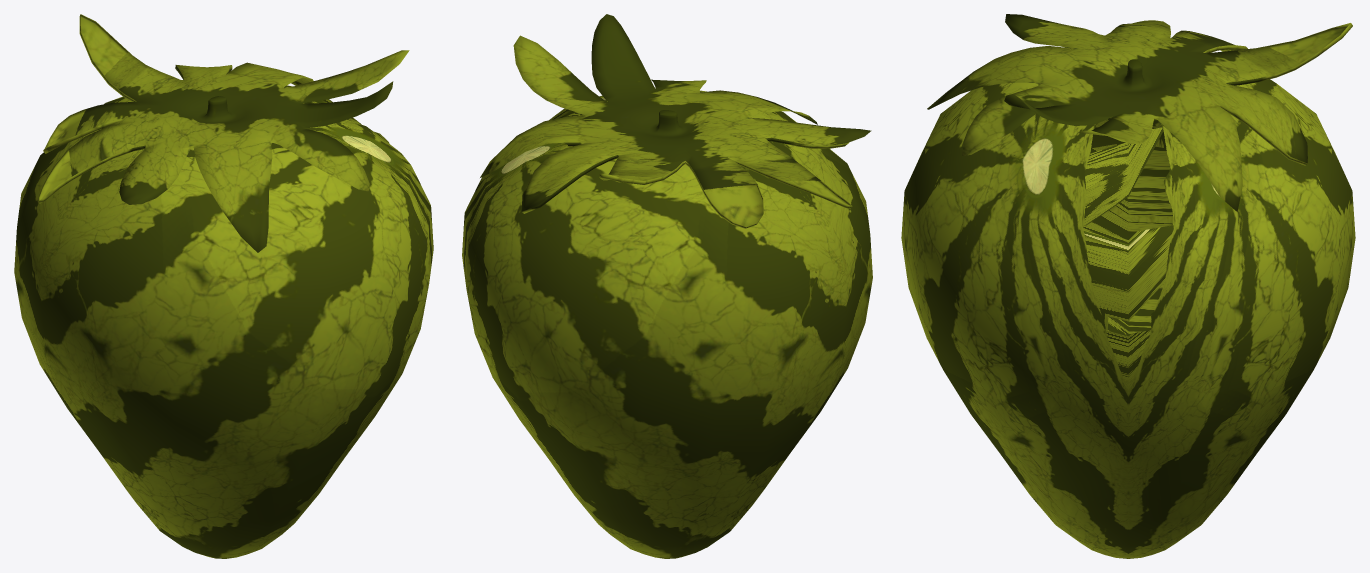
Rendered from Strawberry.fbx.
3 views of the same model, side by side, from view 1: azimuth 30°, elevation 25°; view 2: azimuth 150°, elevation 25°; view 3: azimuth 270°, elevation 25° (orthographic). The views are drawn at different scales.
Visible parts, largest first — view 1: Strawberry; view 2: Strawberry; view 3: Strawberry, Strawberry.001.
Boxes of the visible parts, box(x1,y1,x2,y2) form: Strawberry: box(14, 14, 433, 558); Strawberry: box(462, 14, 872, 558); Strawberry: box(901, 14, 1355, 558); Strawberry.001: box(1083, 117, 1173, 386).
Size of the model in its own units: 12.24 by 15.27 by 12.09.
